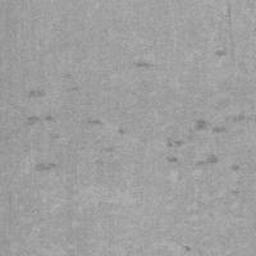Inclusion: (166, 137, 239, 172), (26, 87, 54, 127), (197, 113, 246, 133), (35, 160, 55, 172), (87, 116, 102, 125), (136, 61, 150, 69), (230, 188, 239, 197), (218, 49, 225, 58), (118, 127, 124, 136)
